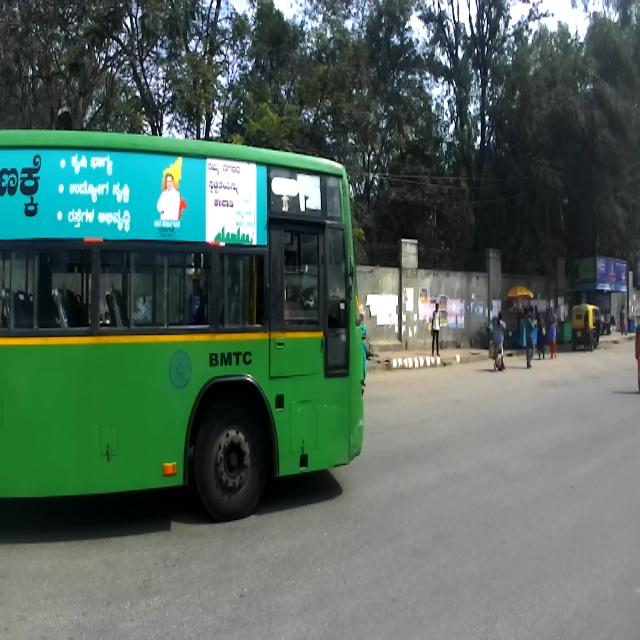bus ahead at: (1, 132, 372, 516)
